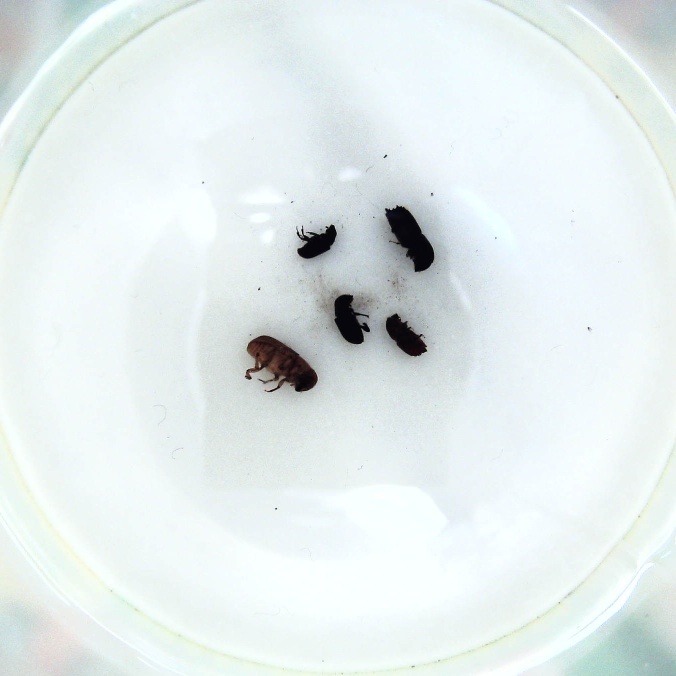armandi: (331, 292, 373, 346)
boerner: (382, 203, 438, 274)
coleoptera: (294, 224, 342, 262)
leconte: (240, 332, 319, 396)
linnaeus: (384, 312, 430, 359)
